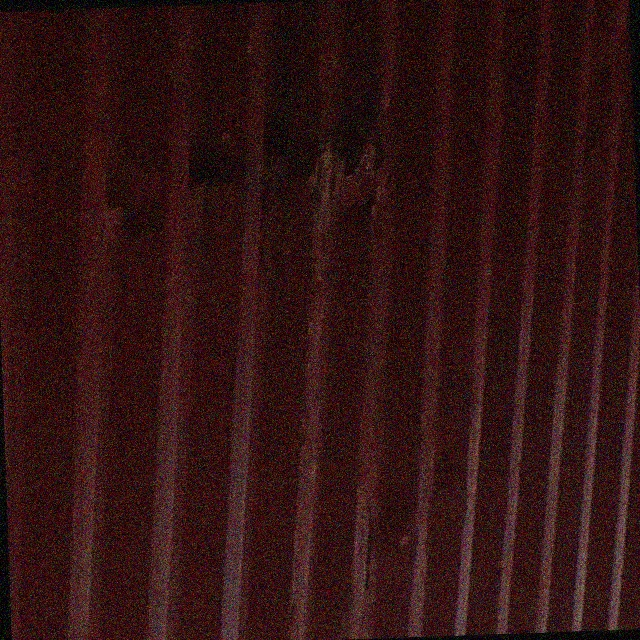Dent: (93, 109, 445, 241)
